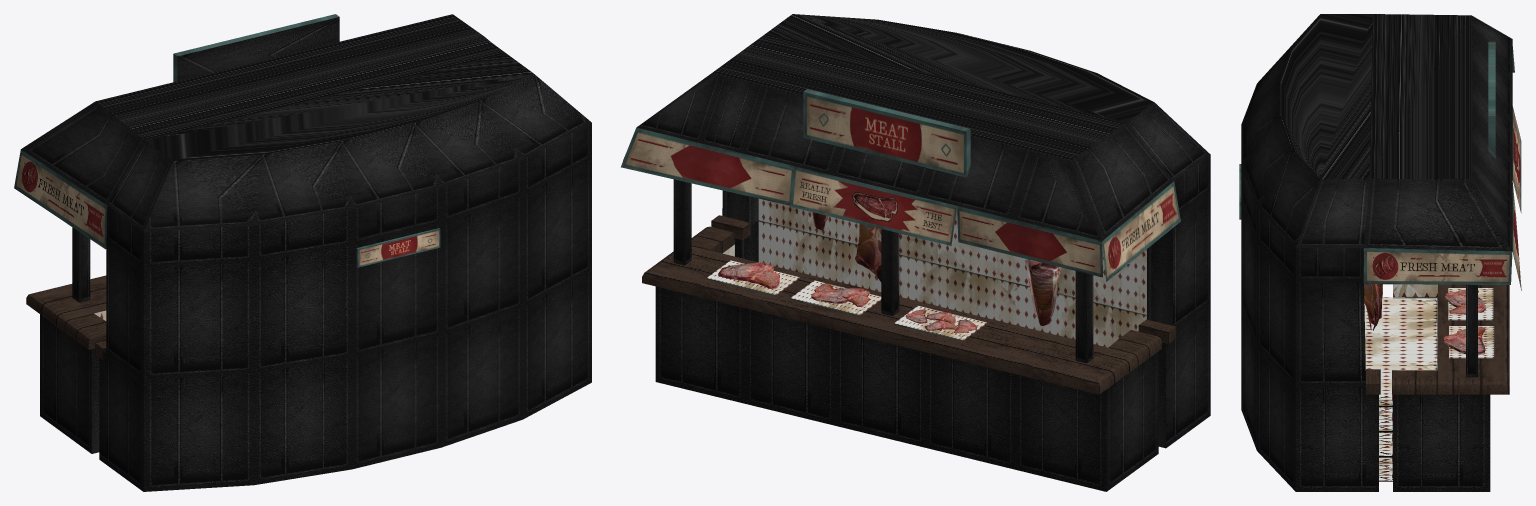
The model's file is meat_shop.fbx.
3 renders of one model, left to right at view 1: azimuth 30°, elevation 25°; view 2: azimuth 150°, elevation 25°; view 3: azimuth 270°, elevation 25°, orthographic. The views are drawn at different scales.
Visible parts, largest first — view 1: kiosk.002; view 2: kiosk.002; view 3: kiosk.002.
Part boxes in pixels (x1,y1,x2,y2): kiosk.002: (14,14,591,491); kiosk.002: (621,14,1210,491); kiosk.002: (1239,14,1521,491).
Bounding box in the file's own units: 293 × 159 × 191.
